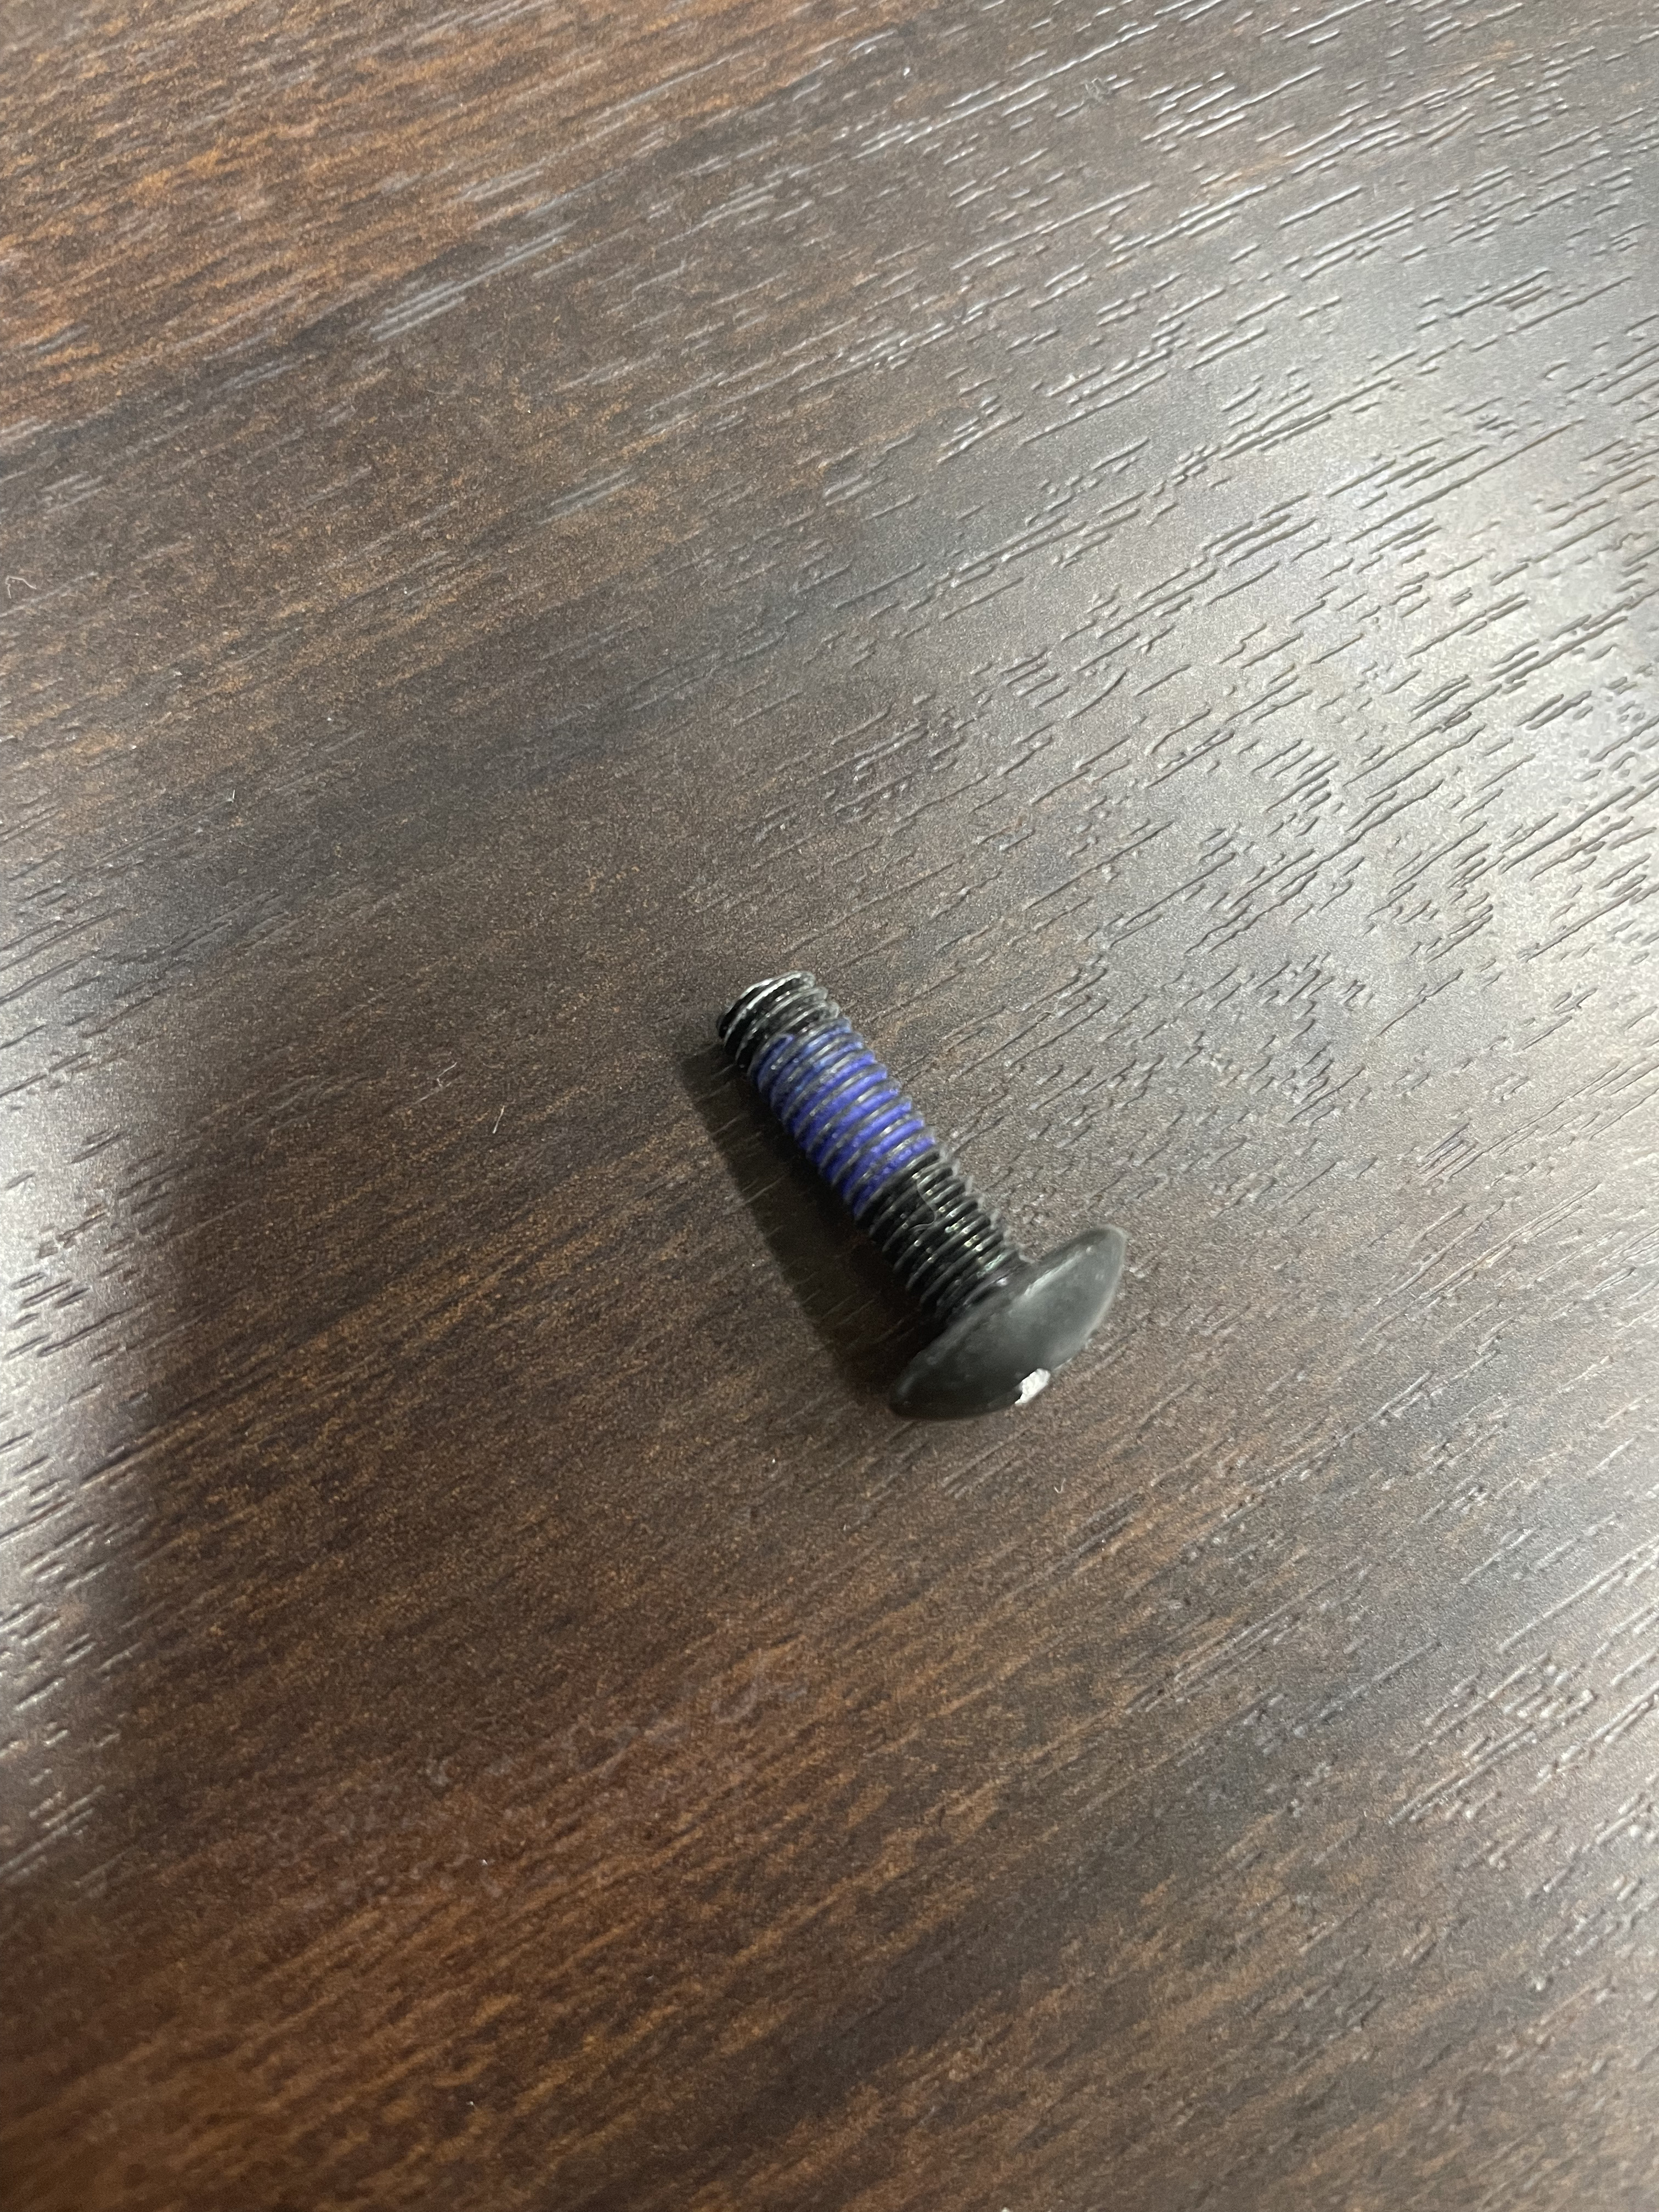screw1: (721, 968, 1131, 1426)
